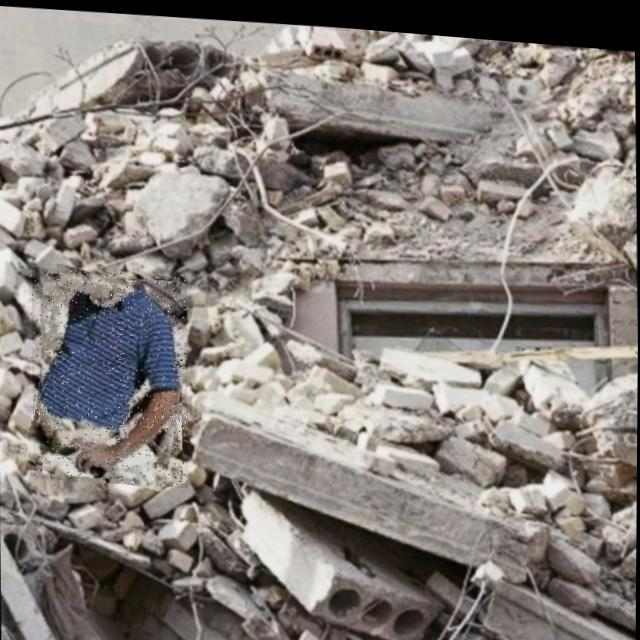Person in Rubble: (29, 263, 190, 487)
